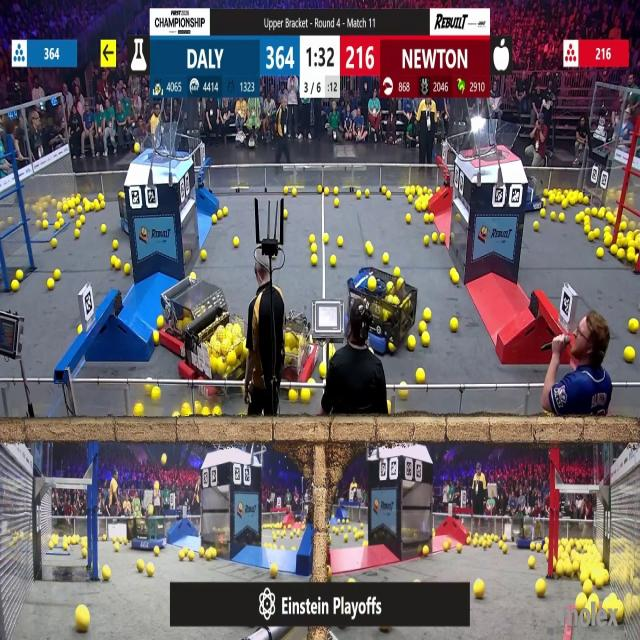ball_airborne: (151, 115, 157, 126), (162, 454, 168, 465), (134, 144, 140, 154)
ball_ground: (75, 608, 88, 633), (473, 582, 483, 600), (575, 594, 585, 611), (536, 581, 545, 598), (416, 369, 426, 384), (301, 388, 311, 403), (626, 348, 636, 362), (319, 362, 327, 378), (564, 562, 572, 578), (617, 606, 625, 622), (134, 405, 144, 417), (409, 337, 417, 351), (630, 319, 638, 333), (584, 582, 593, 594), (182, 405, 191, 417), (422, 333, 429, 348), (451, 318, 459, 331), (146, 563, 154, 576), (151, 387, 159, 400), (451, 271, 459, 284), (628, 249, 636, 262), (103, 566, 110, 580), (289, 390, 297, 402), (618, 248, 626, 260), (556, 564, 564, 576), (424, 309, 431, 322), (271, 564, 278, 577), (11, 280, 18, 292), (138, 560, 145, 572), (365, 244, 372, 256), (209, 550, 217, 560), (159, 316, 165, 329), (15, 271, 22, 282), (388, 343, 395, 354), (153, 334, 159, 346), (422, 545, 429, 555), (597, 248, 604, 258), (420, 321, 427, 331), (203, 408, 210, 418), (330, 255, 336, 266), (312, 254, 318, 265), (47, 279, 53, 290), (529, 557, 535, 568), (123, 265, 129, 276), (114, 261, 120, 272), (618, 233, 626, 241), (399, 390, 406, 399), (311, 244, 318, 253), (316, 184, 323, 193), (428, 213, 435, 222), (383, 253, 389, 263), (322, 235, 328, 245), (202, 250, 208, 260), (441, 234, 447, 244), (407, 214, 413, 224), (610, 246, 616, 256), (431, 234, 437, 244), (110, 256, 116, 266), (595, 230, 601, 240), (604, 237, 610, 247), (388, 403, 392, 417), (213, 409, 220, 417), (416, 201, 421, 212), (74, 231, 80, 240), (112, 241, 118, 250), (42, 219, 48, 228), (188, 552, 194, 561), (422, 202, 428, 211), (323, 186, 329, 195), (75, 198, 81, 207), (592, 208, 598, 217), (56, 271, 61, 281), (339, 237, 344, 247), (283, 209, 288, 219), (424, 236, 429, 246), (394, 268, 399, 278), (424, 213, 429, 223), (154, 546, 160, 554), (212, 215, 218, 223), (539, 209, 545, 217), (588, 234, 594, 242), (101, 224, 107, 232), (310, 236, 316, 244), (585, 224, 591, 232), (75, 220, 81, 228), (533, 222, 539, 230), (562, 200, 568, 208), (335, 200, 341, 208), (362, 539, 368, 547), (363, 189, 369, 197), (621, 222, 627, 230), (77, 324, 83, 332), (586, 208, 592, 216), (235, 238, 240, 247), (180, 552, 185, 561), (560, 213, 565, 222), (100, 201, 105, 210), (82, 549, 87, 558), (552, 212, 557, 221), (502, 543, 507, 552), (56, 220, 61, 229), (64, 541, 69, 550), (348, 576, 354, 583), (585, 215, 591, 222), (335, 187, 341, 194), (77, 207, 83, 214), (51, 240, 56, 248), (575, 214, 580, 222), (222, 208, 227, 216), (445, 542, 450, 550), (356, 190, 361, 198), (201, 549, 205, 559), (99, 192, 104, 200), (457, 543, 462, 551), (217, 210, 222, 218), (284, 186, 289, 194), (542, 543, 547, 551), (184, 250, 189, 258), (354, 532, 359, 540), (423, 186, 428, 194), (344, 534, 348, 543), (414, 578, 420, 584), (266, 542, 272, 548), (190, 273, 195, 280), (70, 210, 75, 217), (118, 191, 123, 198), (309, 379, 314, 386), (466, 537, 471, 544), (530, 542, 535, 549), (535, 543, 540, 550), (60, 218, 65, 225), (544, 553, 549, 560), (498, 541, 503, 548), (115, 542, 119, 550), (387, 190, 391, 198), (292, 188, 296, 196), (472, 538, 476, 546), (554, 558, 558, 566), (103, 535, 108, 541), (410, 195, 414, 202), (80, 215, 84, 222), (274, 534, 278, 541), (58, 212, 62, 219), (543, 188, 547, 195), (123, 537, 127, 543), (112, 536, 116, 542), (348, 526, 352, 532), (274, 542, 278, 548), (281, 544, 285, 549), (291, 545, 295, 550)
goal: (464, 121, 521, 160), (127, 127, 188, 159)
robot_blue: (345, 277, 418, 352), (130, 517, 166, 551), (513, 517, 542, 549), (524, 178, 545, 213), (340, 482, 366, 508)
robot_red: (161, 280, 228, 354), (283, 318, 318, 381)
